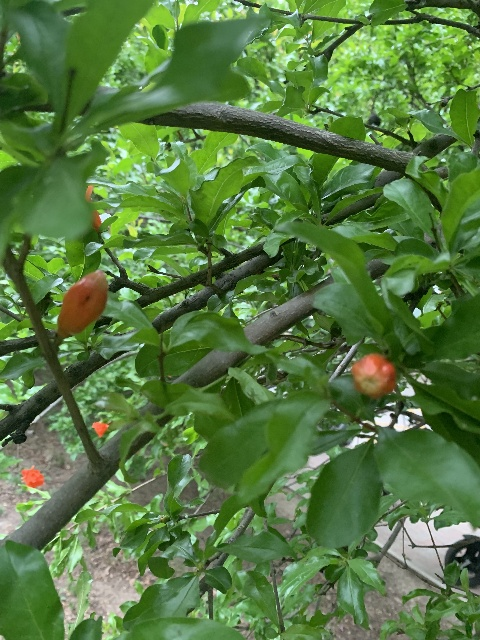bud: (57, 270, 108, 338), (350, 353, 396, 398)
flower: (20, 465, 44, 488), (92, 421, 109, 437)
